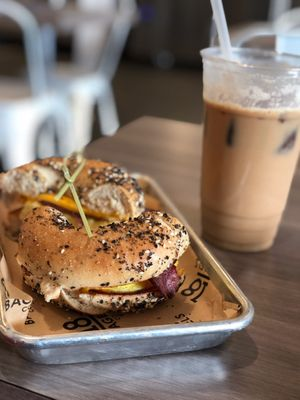pizza: (199, 47, 300, 254)
soup: (9, 161, 190, 315)
